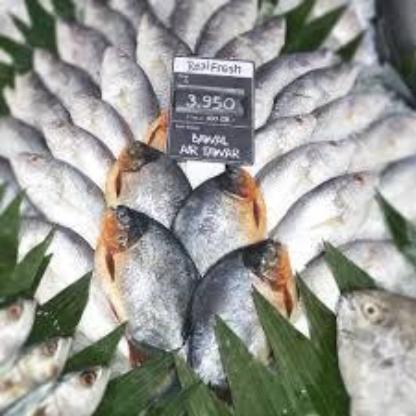ikan-pacu: (188, 234, 294, 384), (99, 199, 191, 355), (172, 164, 270, 274), (98, 137, 190, 223)
